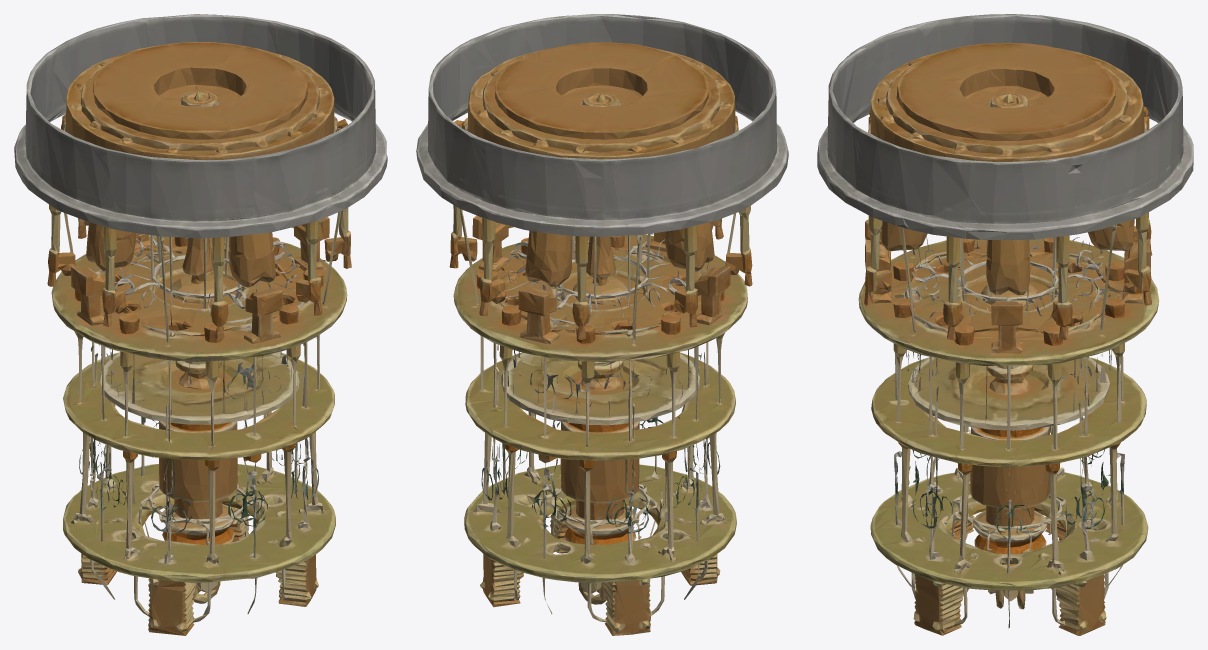
Rendered from quantum.glb.
3 views of the same model, side by side, from view 1: azimuth 30°, elevation 25°; view 2: azimuth 150°, elevation 25°; view 3: azimuth 270°, elevation 25° (orthographic).
Size of the model in its own units: 0.6588 by 0.9998 by 0.6569.
1 material, 1 textured.
